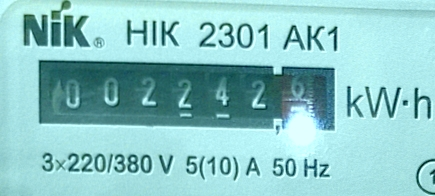0: (63, 77, 83, 110), (101, 75, 120, 108)
2: (139, 75, 158, 107), (176, 76, 193, 110), (250, 78, 267, 110)
4: (214, 74, 230, 107)
6: (290, 73, 306, 100)
screen: (28, 50, 346, 140)
